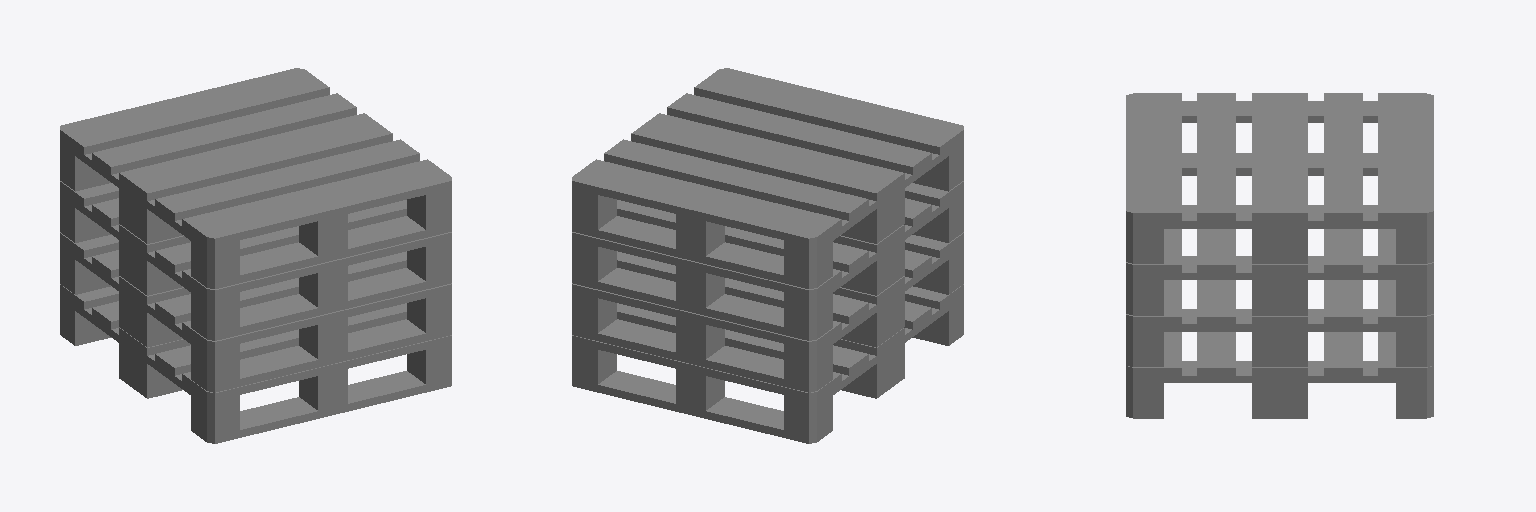
Rendered from eurofour.obj.
3 renders of one model, left to right at view 1: azimuth 30°, elevation 25°; view 2: azimuth 150°, elevation 25°; view 3: azimuth 270°, elevation 25°, orthographic.
Parts seen in each view (by area): view 1: 4erpalette_Object001; view 2: 4erpalette_Object001; view 3: 4erpalette_Object001.
Part boxes in pixels (bbox=[...]): 4erpalette_Object001: bbox=[60, 68, 451, 443]; 4erpalette_Object001: bbox=[572, 68, 963, 443]; 4erpalette_Object001: bbox=[1126, 93, 1433, 418].
Bounding box in the file's own units: 5.59 × 4.47 × 6.09.